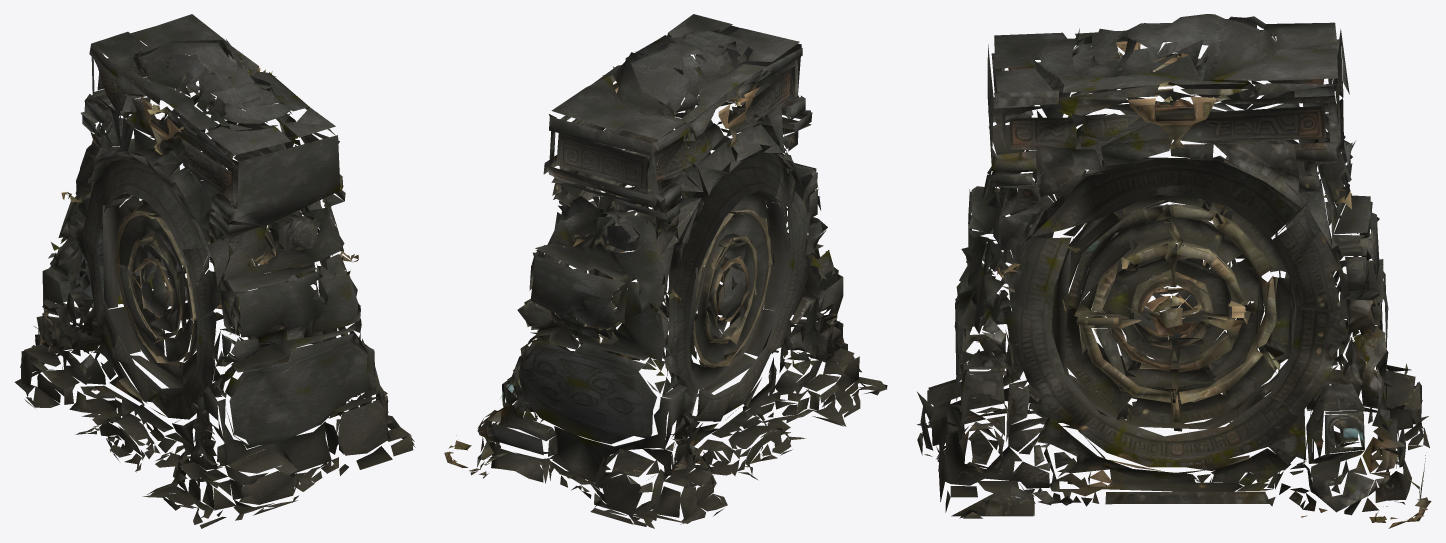
The model's file is ch1_first_sealed_portal_LOD2.glb.
3 views of the same model, side by side, from view 1: azimuth 30°, elevation 25°; view 2: azimuth 150°, elevation 25°; view 3: azimuth 270°, elevation 25° (orthographic). The views are drawn at different scales.
Visible parts, largest first — view 1: tripo_node_30cc7031-aaaa-48c9-b1ef-075203d77a03; view 2: tripo_node_30cc7031-aaaa-48c9-b1ef-075203d77a03; view 3: tripo_node_30cc7031-aaaa-48c9-b1ef-075203d77a03.
Part boxes in pixels (bbox=[...]): tripo_node_30cc7031-aaaa-48c9-b1ef-075203d77a03: bbox=[14, 14, 415, 528]; tripo_node_30cc7031-aaaa-48c9-b1ef-075203d77a03: bbox=[444, 14, 887, 528]; tripo_node_30cc7031-aaaa-48c9-b1ef-075203d77a03: bbox=[917, 14, 1431, 528].
Bounding box in the file's own units: 0.6753 × 0.9721 × 0.9947.
Materials: 1 (1 with a texture image).
